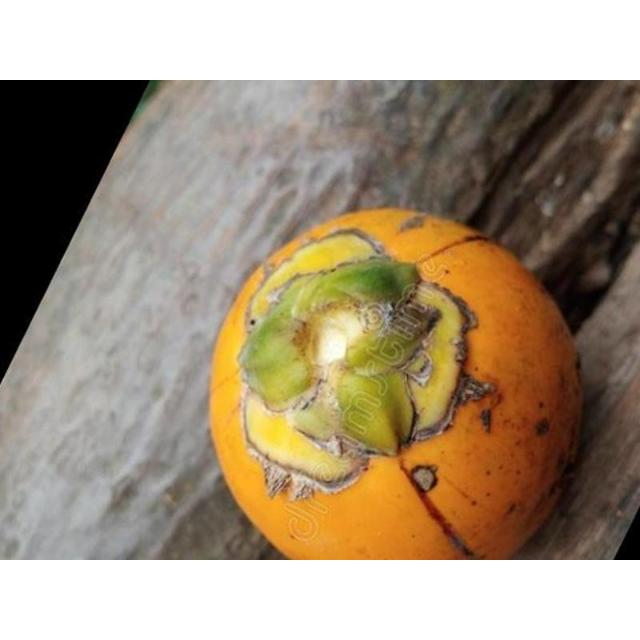good: (209, 205, 586, 559)
